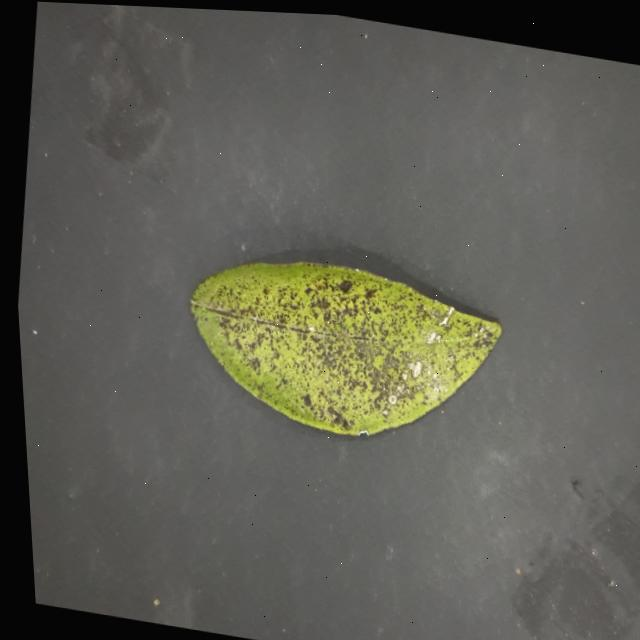greasy_spot: (191, 263, 501, 434)
